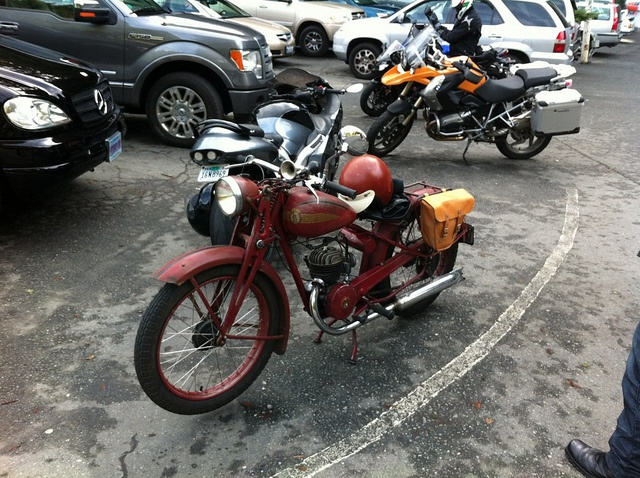non-vehicle: (133, 125, 474, 416), (185, 66, 365, 261), (365, 24, 577, 156), (359, 18, 516, 115)
